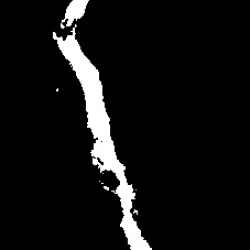crack: (54, 2, 151, 248)
pinhole: (55, 86, 62, 96)
